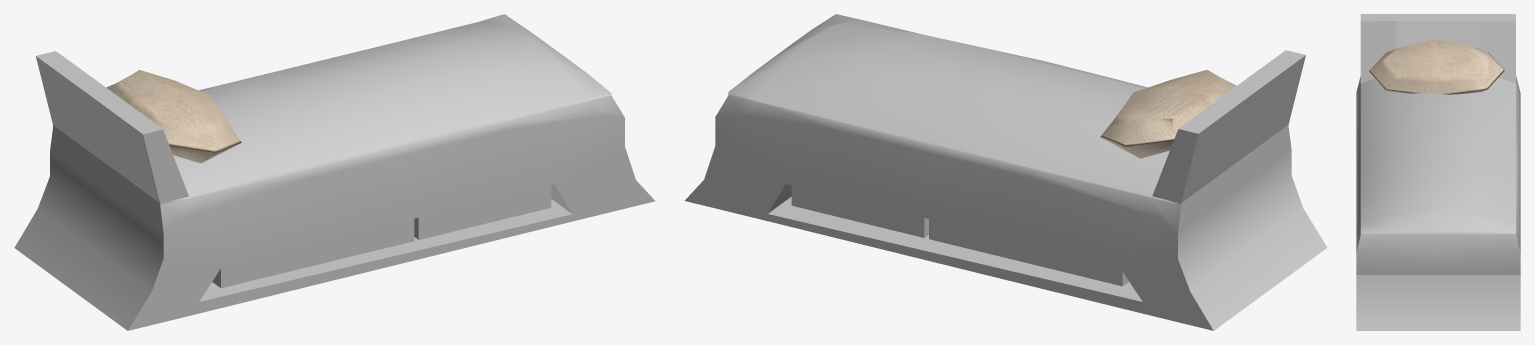
Rendered from bed_1.fbx.
The picture shows the model from 3 angles, left to right: view 1: azimuth 30°, elevation 25°; view 2: azimuth 150°, elevation 25°; view 3: azimuth 270°, elevation 25°; orthographic projection. The views are drawn at different scales.
Visible parts, largest first — view 1: bed_1; view 2: bed_1; view 3: bed_1.
Boxes of the visible parts, bbox=[...] form: bed_1: bbox=[14, 14, 655, 330]; bed_1: bbox=[685, 14, 1327, 330]; bed_1: bbox=[1356, 14, 1520, 330].
Size of the model in its own units: 244 by 83.82 by 90.69.
